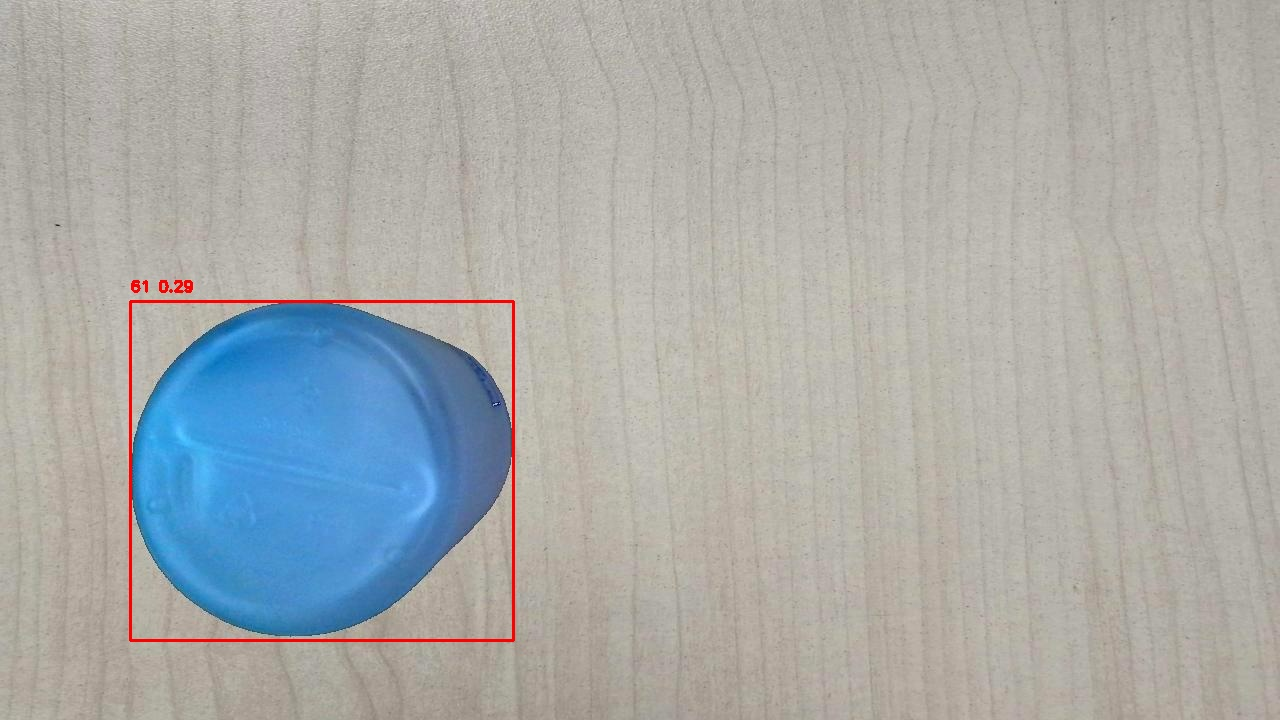cup: (130, 301, 513, 640)
